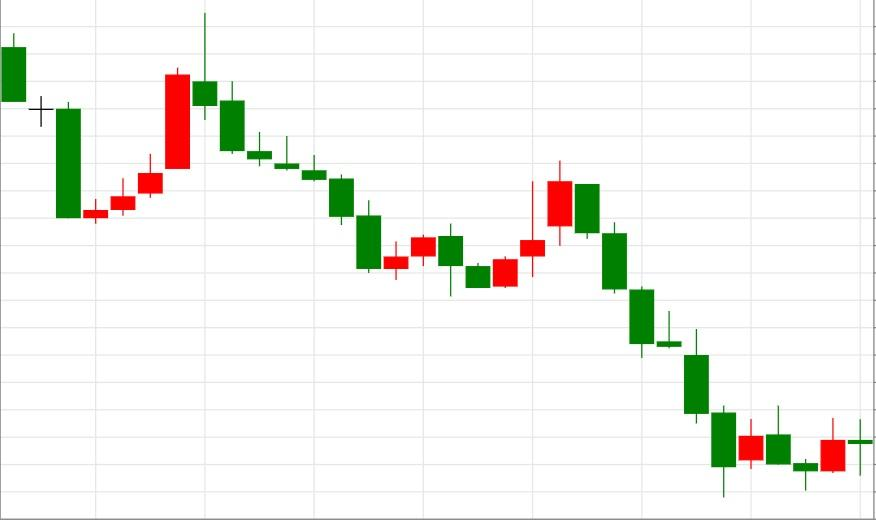three_black_crows_fall: (464, 161, 655, 358)
three_white_soldiers_rise: (0, 31, 164, 224)
